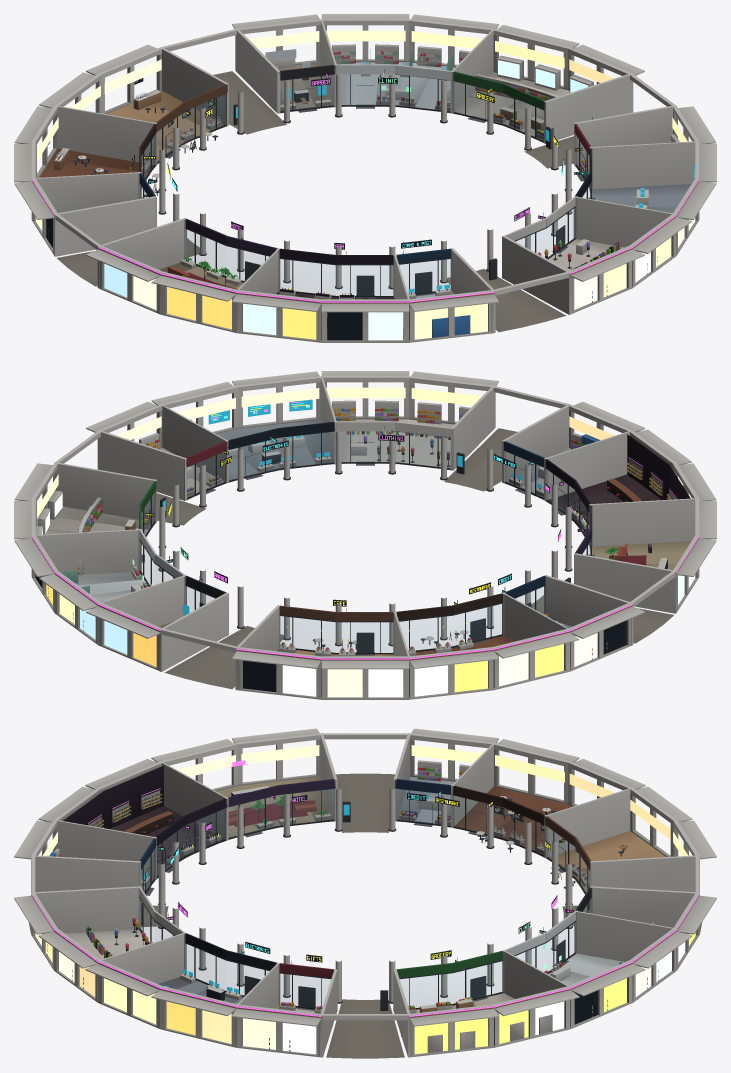
Rendered from dome_floor1.glb.
3 views of the same model, one above another, from view 1: azimuth 30°, elevation 25°; view 2: azimuth 150°, elevation 25°; view 3: azimuth 270°, elevation 25° (orthographic).
Parts seen in each view (by area): view 1: Struct_1, Shell_1, Venue_clinic, Venue_bar, Venue_grocery, Venue_cafe, Venue_hotel, Venue_clothing, Venue_comms, Venue_barber, Venue_restaurant, Venue_electronics (+5 smaller); view 2: Struct_1, Shell_1, Venue_clothing, Venue_cafe, Venue_bar, Venue_restaurant, Venue_electronics, Venue_grocery, Venue_clinic, VenueLamps_electronics, Venue_hotel, Venue_comms (+7 smaller); view 3: Struct_1, Shell_1, Venue_bar, Venue_grocery, Venue_hotel, Venue_restaurant, Venue_electronics, Venue_clinic, Venue_cafe, Venue_clothing, Venue_credit, Venue_gifts (+5 smaller).
Part boxes in pixels (x1,y1,x2,y2): Struct_1: [14, 14, 716, 342]; Shell_1: [31, 107, 699, 340]; Venue_clinic: [332, 44, 470, 113]; Venue_bar: [276, 242, 403, 339]; Venue_grocery: [452, 55, 595, 143]; Venue_cafe: [106, 78, 228, 165]; Venue_hotel: [159, 218, 280, 290]; Venue_clothing: [502, 196, 657, 302]; Venue_comms: [393, 239, 470, 337]; Venue_barber: [265, 49, 337, 113]; Venue_restaurant: [39, 122, 170, 198]; Venue_electronics: [561, 148, 691, 238]; Struct_1: [14, 371, 716, 699]; Shell_1: [31, 464, 699, 697]; Venue_clothing: [332, 400, 470, 470]; Venue_cafe: [276, 599, 403, 696]; Venue_bar: [544, 434, 690, 546]; Venue_restaurant: [393, 582, 514, 656]; Venue_electronics: [216, 419, 337, 482]; Venue_grocery: [35, 479, 171, 575]; Venue_clinic: [48, 529, 188, 630]; VenueLamps_electronics: [177, 388, 329, 465]; Venue_hotel: [558, 504, 691, 583]; Venue_comms: [493, 433, 598, 500]; Struct_1: [14, 728, 716, 1058]; Shell_1: [31, 822, 699, 1054]; Venue_bar: [63, 765, 227, 879]; Venue_grocery: [393, 950, 552, 1052]; Venue_hotel: [216, 776, 337, 840]; Venue_restaurant: [435, 785, 572, 857]; Venue_electronics: [158, 933, 280, 1005]; Venue_clinic: [502, 911, 658, 1016]; Venue_cafe: [544, 815, 665, 894]; Venue_clothing: [47, 886, 187, 988]; Venue_credit: [393, 760, 470, 827]; Venue_gifts: [242, 954, 337, 1051].
Bounding box in the file's own units: 70.9 × 4.65 × 70.9.
